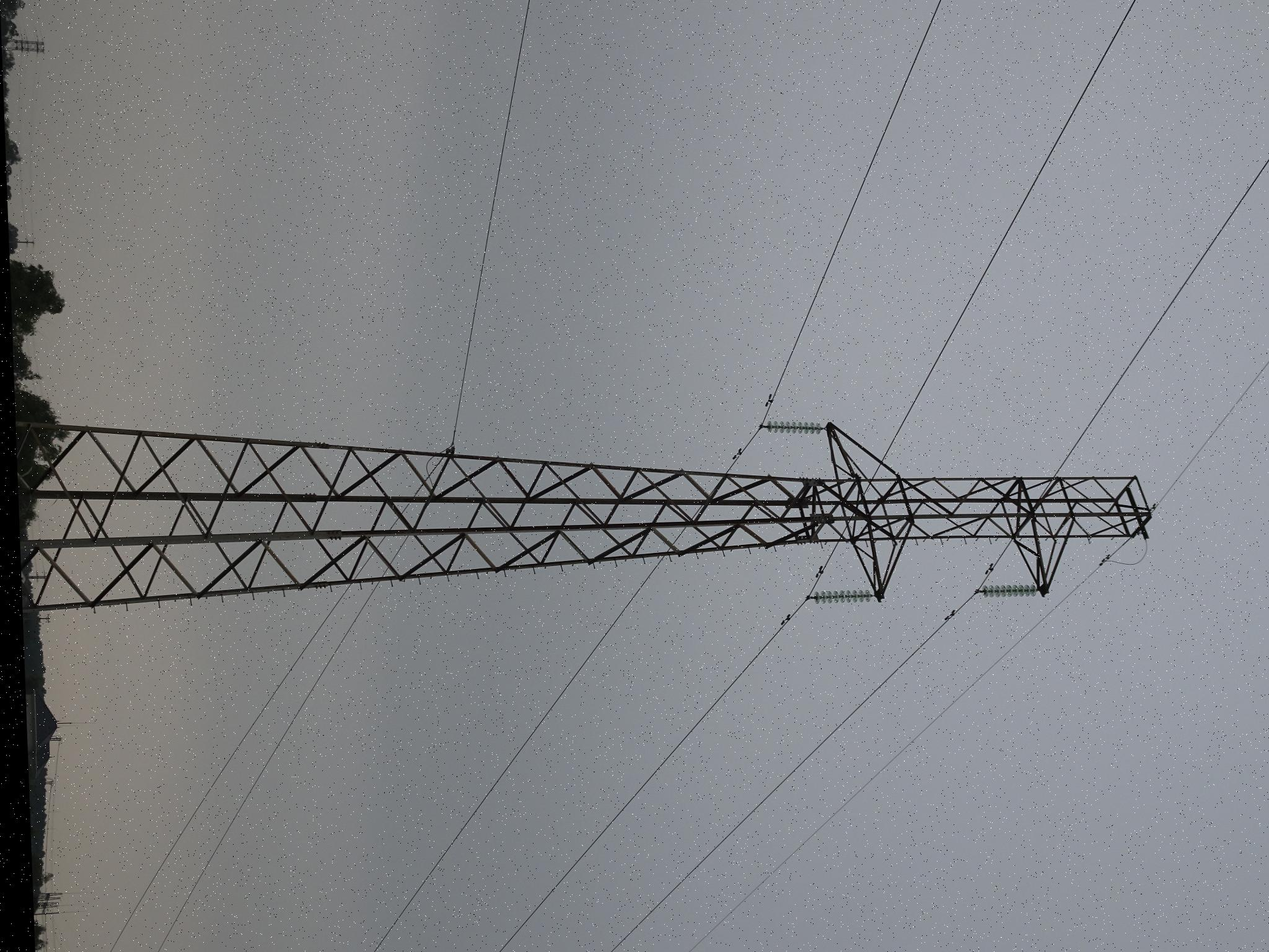tower: (327, 0, 586, 838)
